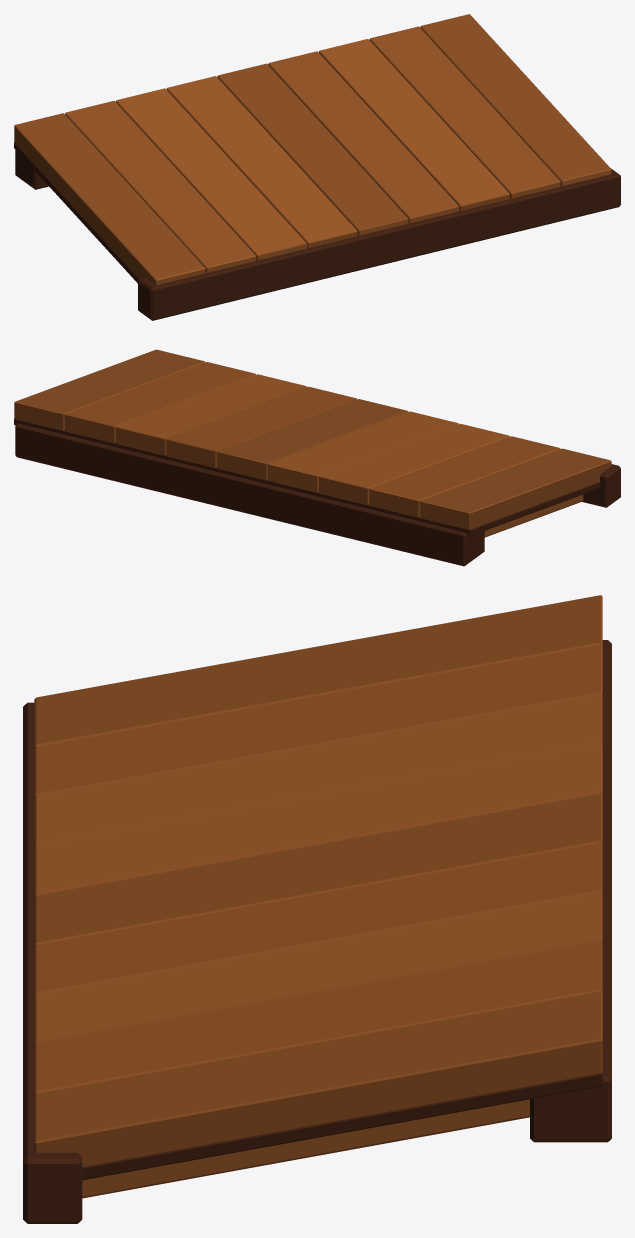
Rendered from QH_Porch_Roof_2m.fbx.
3 renders of one model, top to bottom at view 1: azimuth 30°, elevation 25°; view 2: azimuth 150°, elevation 25°; view 3: azimuth 270°, elevation 25°, orthographic. The views are drawn at different scales.
Visible parts, largest first — view 1: QH_Porch_Roof_2m; view 2: QH_Porch_Roof_2m; view 3: QH_Porch_Roof_2m.
Part boxes in pixels (x1,y1,x2,y2): QH_Porch_Roof_2m: (14,14,620,320); QH_Porch_Roof_2m: (14,349,620,566); QH_Porch_Roof_2m: (23,595,611,1223).
Size of the model in its own units: 2.39 by 0.4447 by 1.29.
